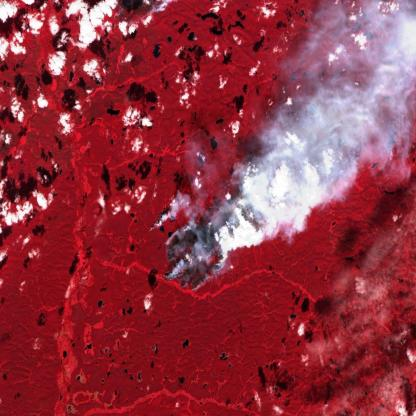fire: (150, 200, 238, 295), (109, 0, 168, 30)
